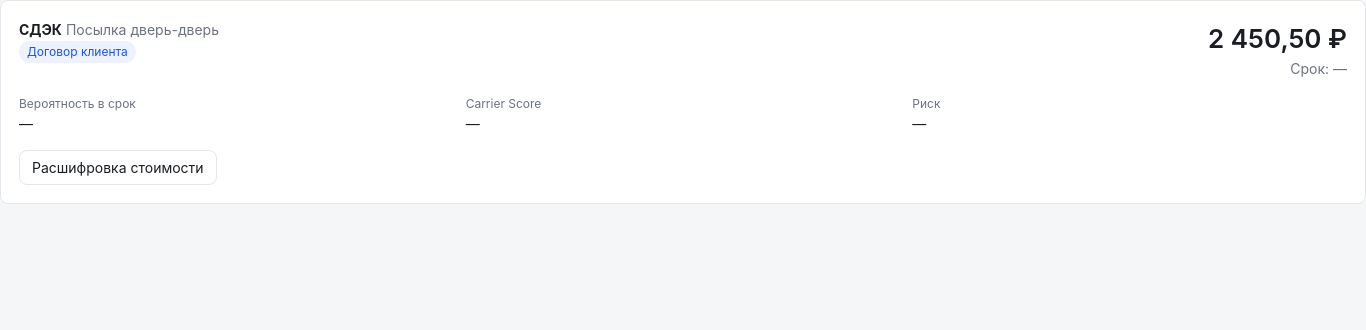
Test case: OfferCard › без подписи перевозчика показывает наш тип
Click the button "Расшифровка стоимости": [118, 168] box x1=19 y1=150 x2=217 y2=185
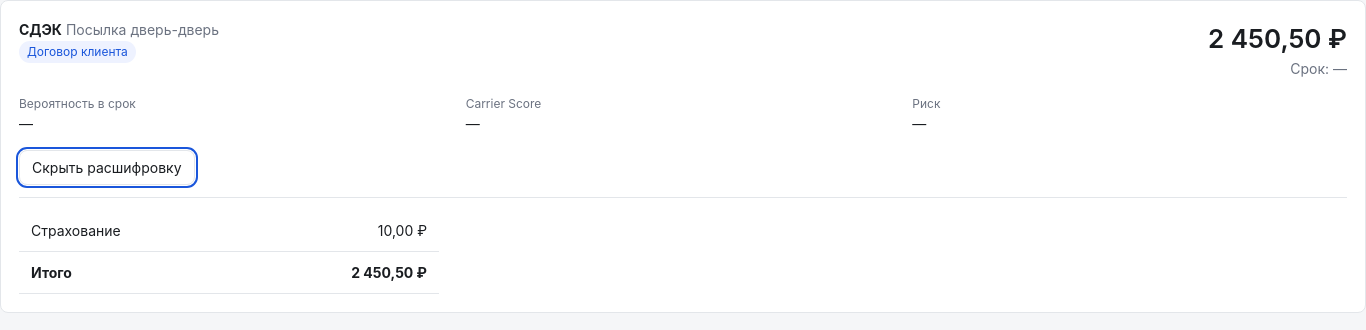
Now the text "Страхование" is shown, box x1=19 y1=210 x2=243 y2=252
